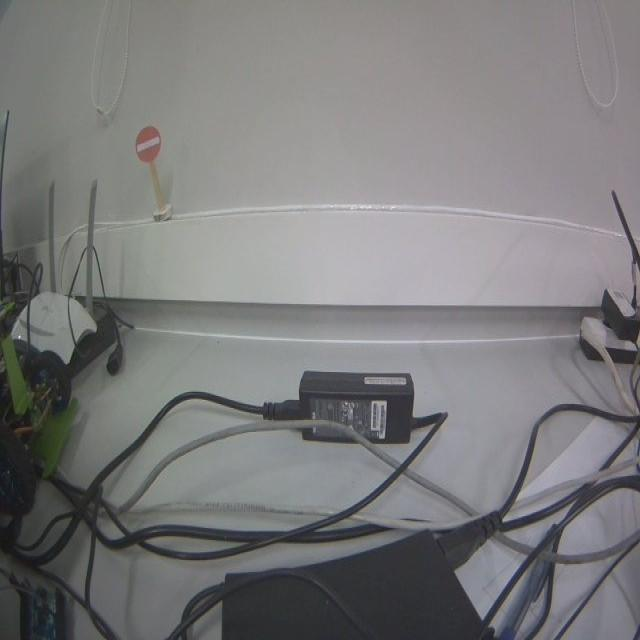Dilarang Masuk: (134, 125, 161, 163)
